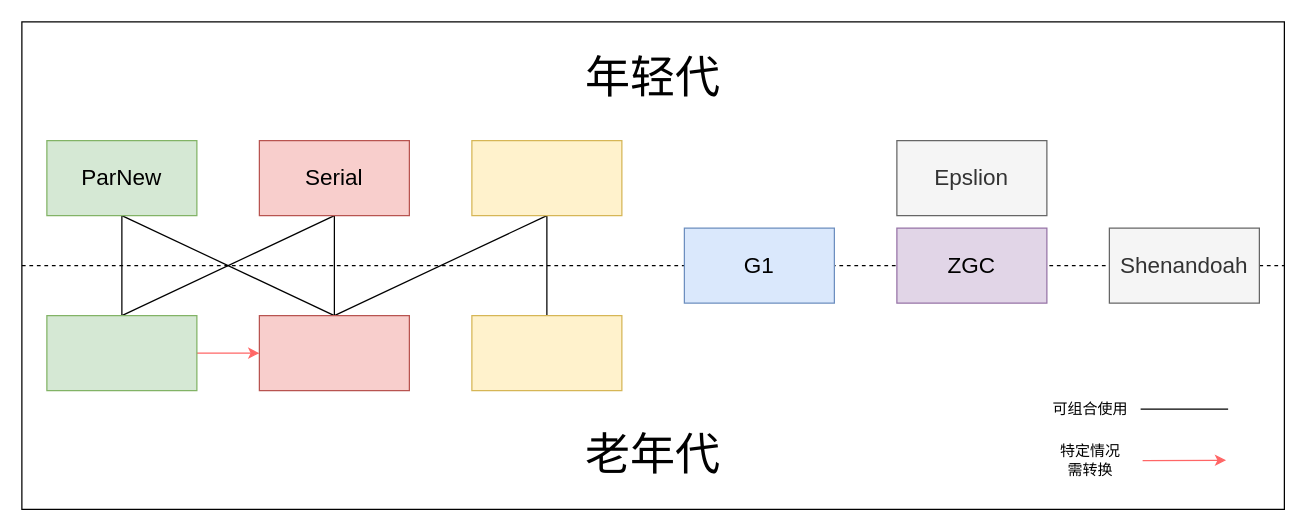
The diagram is 1308 pixels wide and 531 high, and some of its shapes have lost their labels. Each missing label, with the centre of its shape:
"CMS" goes at point 121,352.
"Parallel" goes at point 546,177.
"ParallelOld" goes at point 546,352.
"SerialOld" goes at point 333,352.
